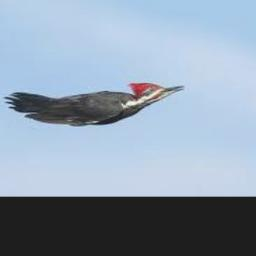Woodpecker: (1, 83, 183, 125)
